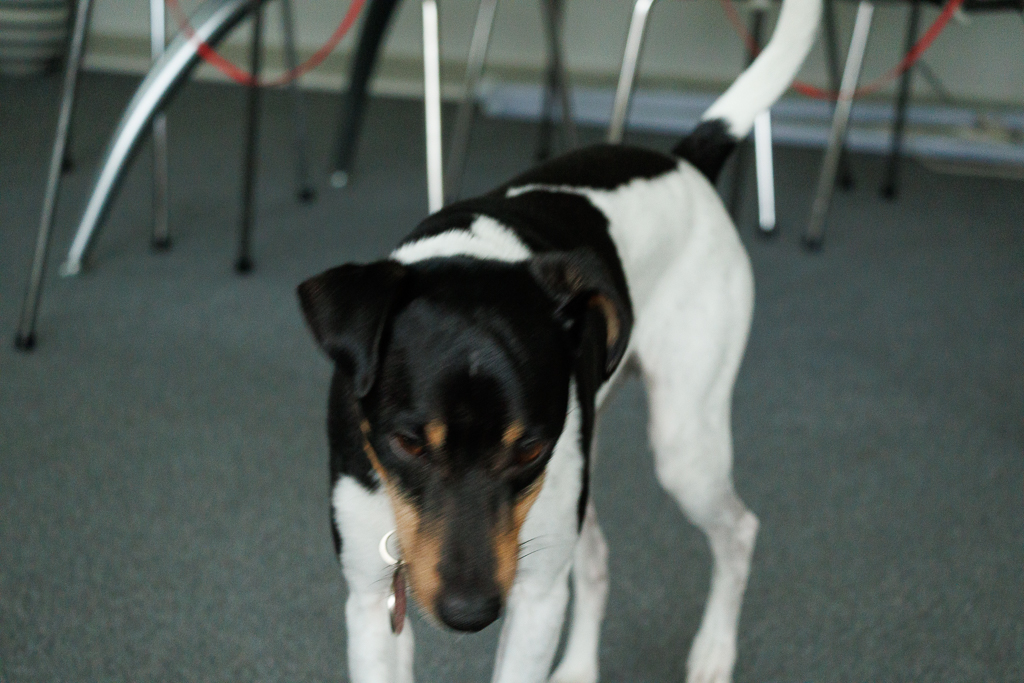Dog: (286, 0, 829, 683)
